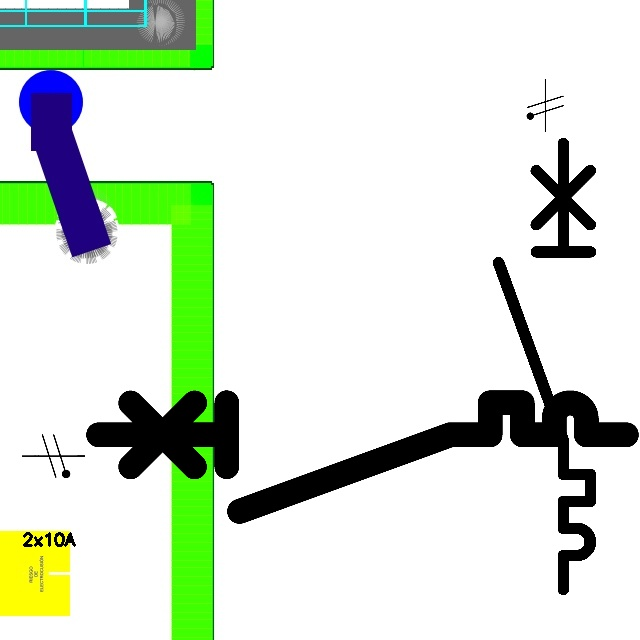interruptor_termomagnetico: (84, 389, 639, 525), (487, 132, 602, 601)
